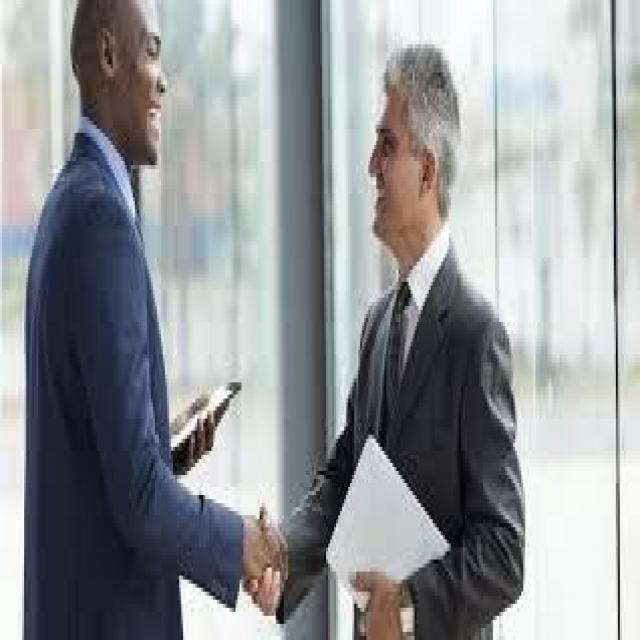person: (20, 0, 280, 612), (270, 16, 517, 636)
